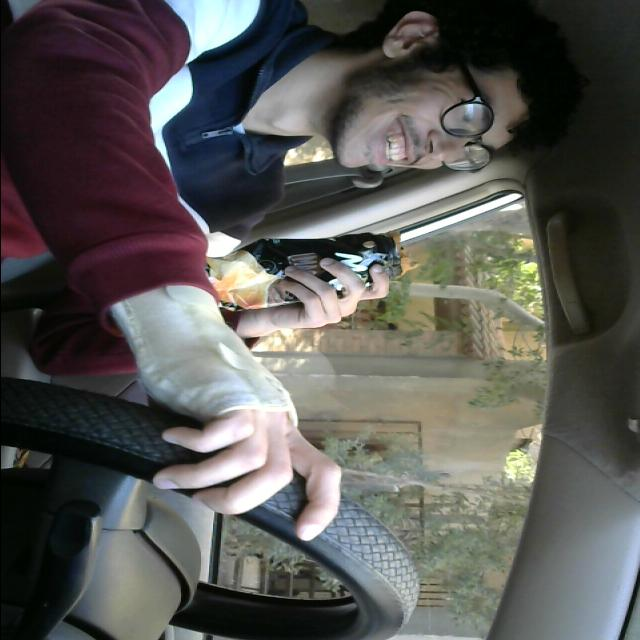eating: (152, 222, 420, 328)
